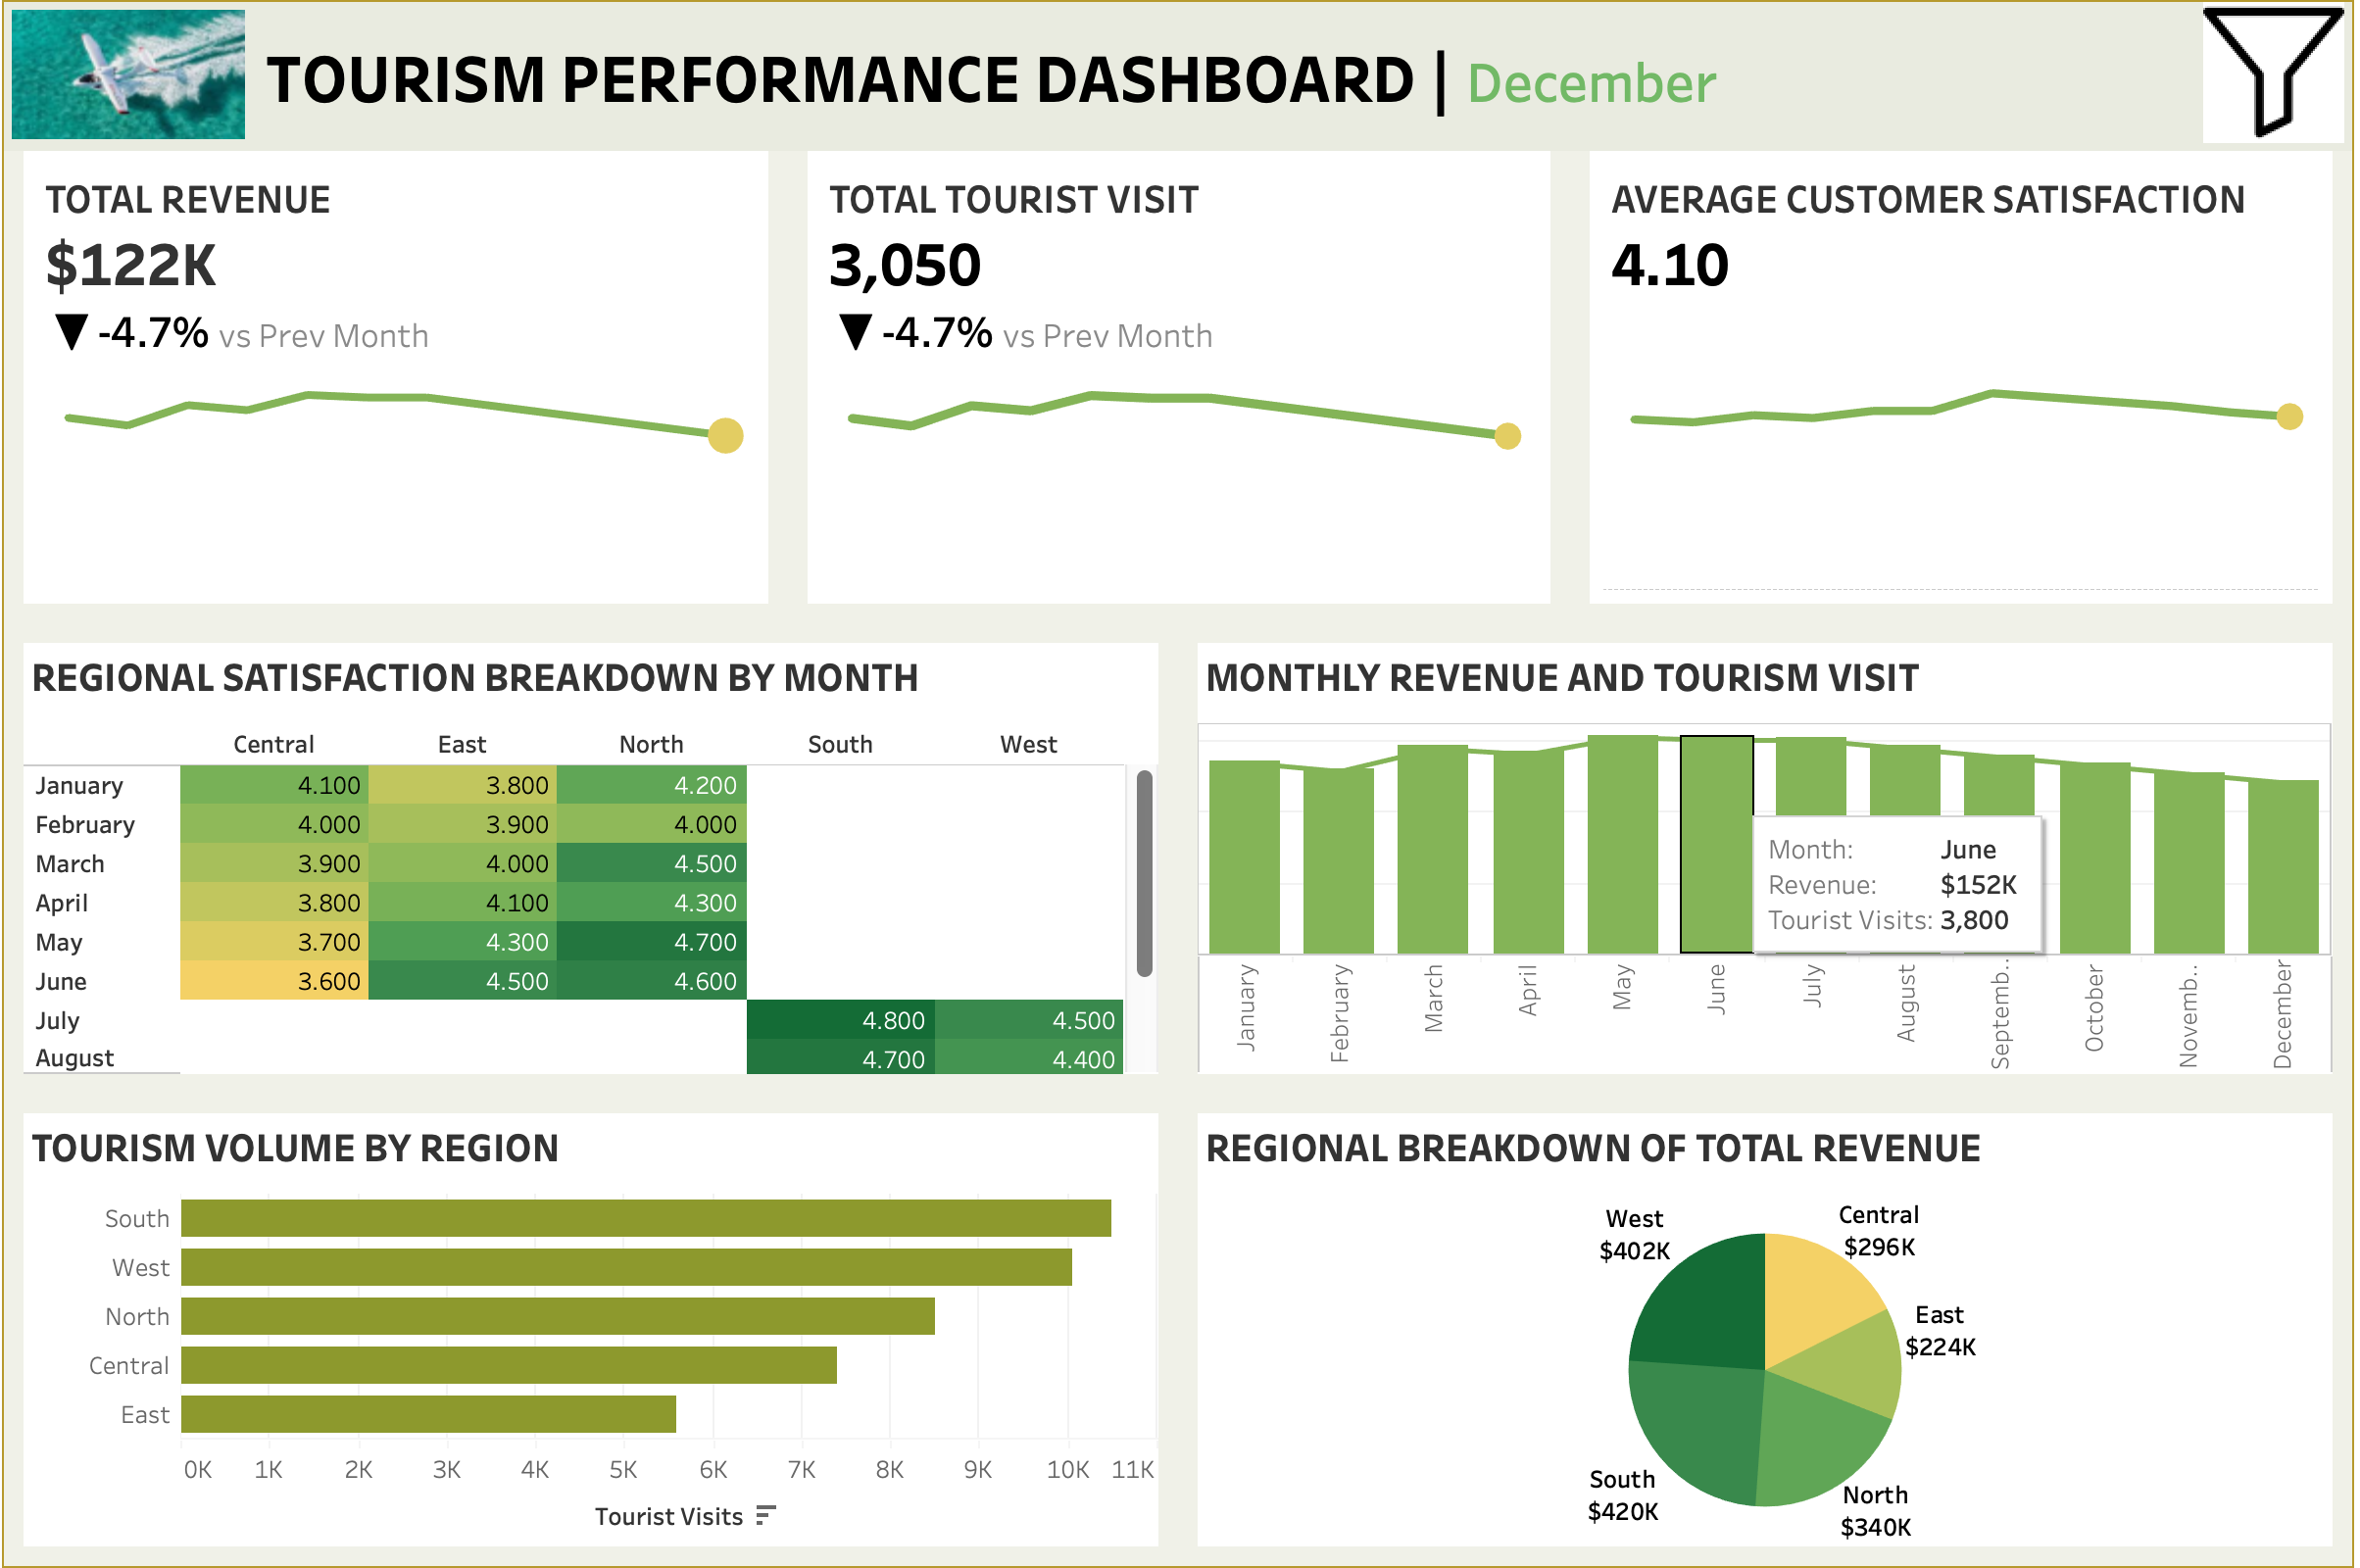

What the dashboard file says about the page in this screenshot:
{"tool":"tableau","page":{"name":"Dashboard 1","canvas":[1200,800],"ordinal":0},"visuals":[{"type":"image","param":"Image/aircraft.jpeg","box":[1,1,127,76]},{"type":"text","box":[128,1,1071,76]},{"type":"dashboard-object","box":[1121,1,77,72]},{"type":"blank","box":[993,11,196,32]},{"type":"text","box":[993,43,196,43]},{"type":"worksheet","title":"Revenue","mark":"Line","rows":["Revenue","Calculation_927248961735131137"],"cols":["Calculation_927248961736761347"],"box":[1,77,400,241]},{"type":"worksheet","title":"Total Tourist","mark":"Line","rows":["Tourist_Visits","Calculation_927248961763672081"],"cols":["Calculation_927248961736761347"],"box":[401,77,399,241]},{"type":"worksheet","title":"Total Satiasfaction","mark":"Line","rows":["Customer_Satisfaction","Ctourist (copy)_927248961770774550"],"cols":["Calculation_927248961736761347"],"box":[800,77,399,241]},{"type":"parameter","param":"[Parameters].[Parameter 1]","box":[993,86,196,270]},{"type":"worksheet","title":"satisfaction","mark":"Square","rows":["Calculation_927248961800126492"],"cols":["Region"],"box":[1,318,599,240]},{"type":"worksheet","title":"Revenue/Tourist","mark":"Automatic","rows":["Revenue","Tourist_Visits"],"cols":["Calculation_927248961800126492"],"box":[600,318,599,240]},{"type":"filter","title":"satisfaction","param":"[federated.1kamgxh1s6aiyg1f67ssy15s8cda].[qr:Calculation_927248961800126492:ok]","box":[993,356,196,63]},{"type":"blank","box":[993,419,196,32]},{"type":"text","box":[993,451,196,29]},{"type":"filter","title":"satisfaction","param":"[federated.1kamgxh1s6aiyg1f67ssy15s8cda].[none:Region:nk]","box":[993,480,196,62]},{"type":"worksheet","title":"tourism volume by region","mark":"Automatic","rows":["Region"],"cols":["Tourist_Visits"],"box":[1,558,599,241]},{"type":"worksheet","title":"region revenue","mark":"Pie","box":[600,558,599,241]}]}

Visuals, with their boxes in screenshot pixels (x1, y1, x2, y2), scaled from the page's 1200x800 canvas onto the 2360x1568 screenshot:
image: (left=2, top=2, right=252, bottom=151)
text: (left=252, top=2, right=2358, bottom=151)
dashboard-object: (left=2204, top=2, right=2356, bottom=143)
blank: (left=1953, top=22, right=2338, bottom=84)
text: (left=1953, top=84, right=2338, bottom=169)
"Revenue" worksheet (Line marks): (left=2, top=151, right=789, bottom=623)
"Total Tourist" worksheet (Line marks): (left=789, top=151, right=1573, bottom=623)
"Total Satiasfaction" worksheet (Line marks): (left=1573, top=151, right=2358, bottom=623)
parameter: (left=1953, top=169, right=2338, bottom=698)
"satisfaction" worksheet (Square marks): (left=2, top=623, right=1180, bottom=1094)
"Revenue/Tourist" worksheet: (left=1180, top=623, right=2358, bottom=1094)
"satisfaction" filter: (left=1953, top=698, right=2338, bottom=821)
blank: (left=1953, top=821, right=2338, bottom=884)
text: (left=1953, top=884, right=2338, bottom=941)
"satisfaction" filter: (left=1953, top=941, right=2338, bottom=1062)
"tourism volume by region" worksheet: (left=2, top=1094, right=1180, bottom=1566)
"region revenue" worksheet (Pie marks): (left=1180, top=1094, right=2358, bottom=1566)
